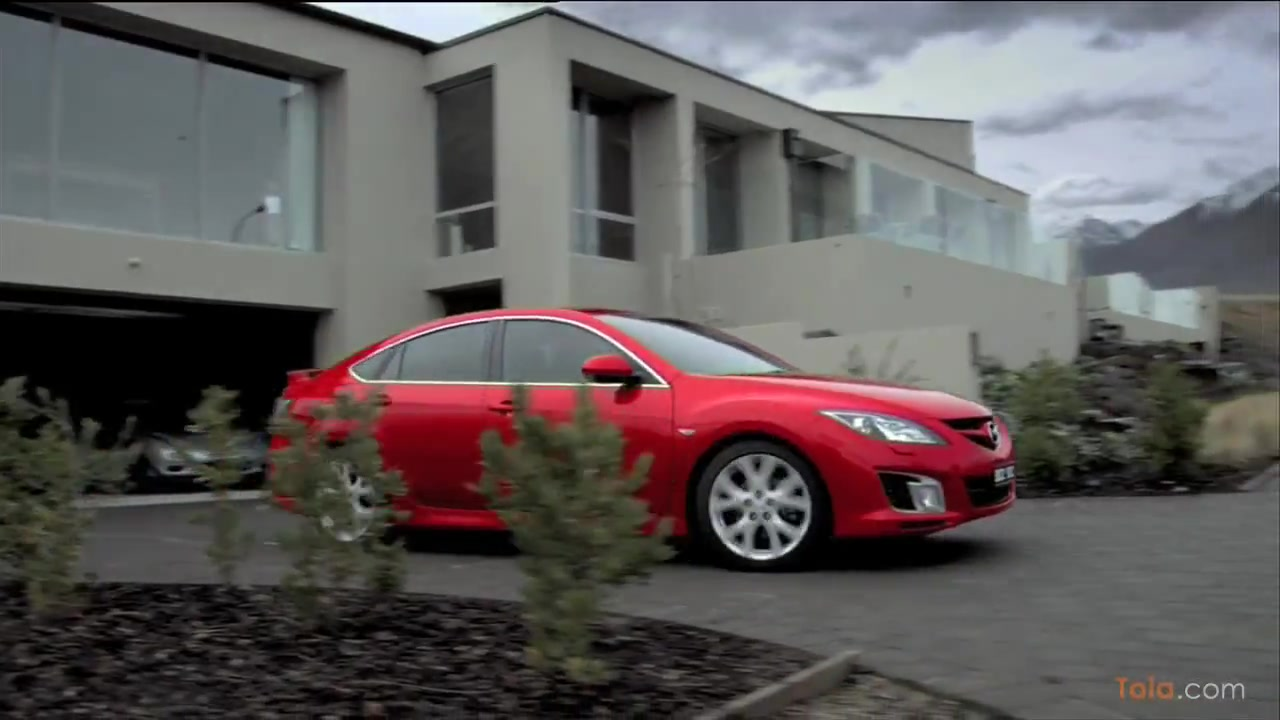car: (264, 301, 1021, 565)
